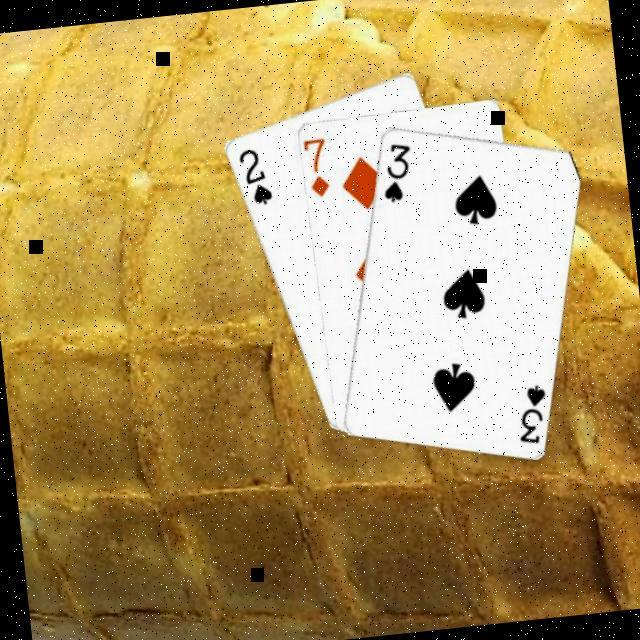2S: (235, 142, 277, 207)
3S: (376, 136, 418, 203), (513, 378, 555, 445)
7D: (303, 132, 334, 198)
